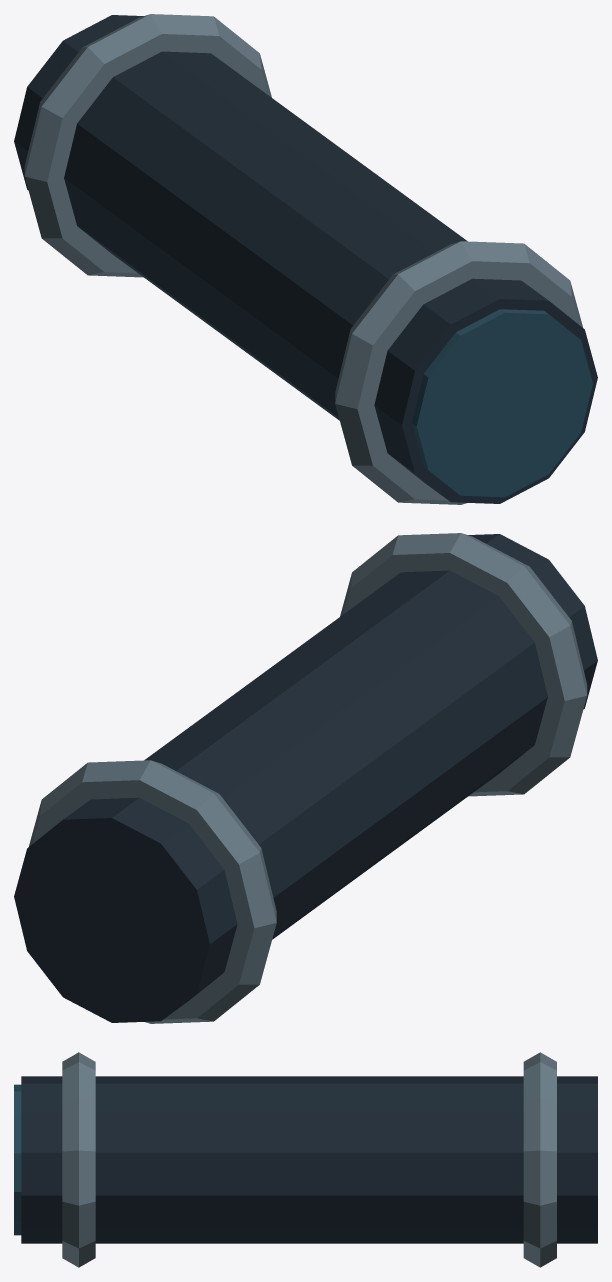
Rendered from fps-scope.lod0.glb.
3 renders of one model, top to bottom at view 1: azimuth 30°, elevation 25°; view 2: azimuth 150°, elevation 25°; view 3: azimuth 270°, elevation 25°, orthographic. The views are drawn at different scales.
Visible parts, largest first — view 1: fps-scope__body; view 2: fps-scope__body; view 3: fps-scope__body.
Part boxes in pixels (x1,y1,x2,y2): fps-scope__body: (14, 14, 597, 504); fps-scope__body: (14, 533, 597, 1023); fps-scope__body: (14, 1052, 597, 1267).
Bounding box in the file's own units: 0.09 × 0.09 × 0.243.
